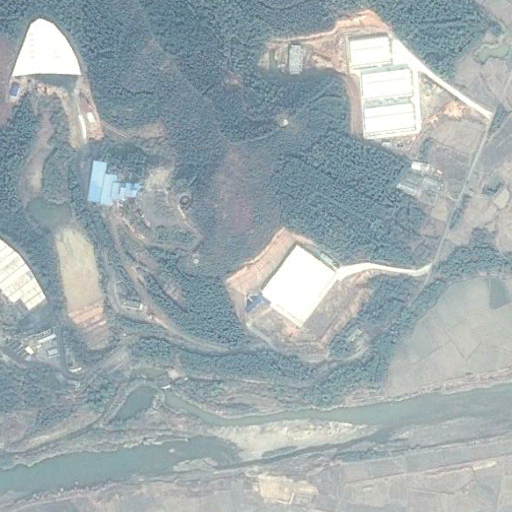tp: (26, 200, 121, 355)
